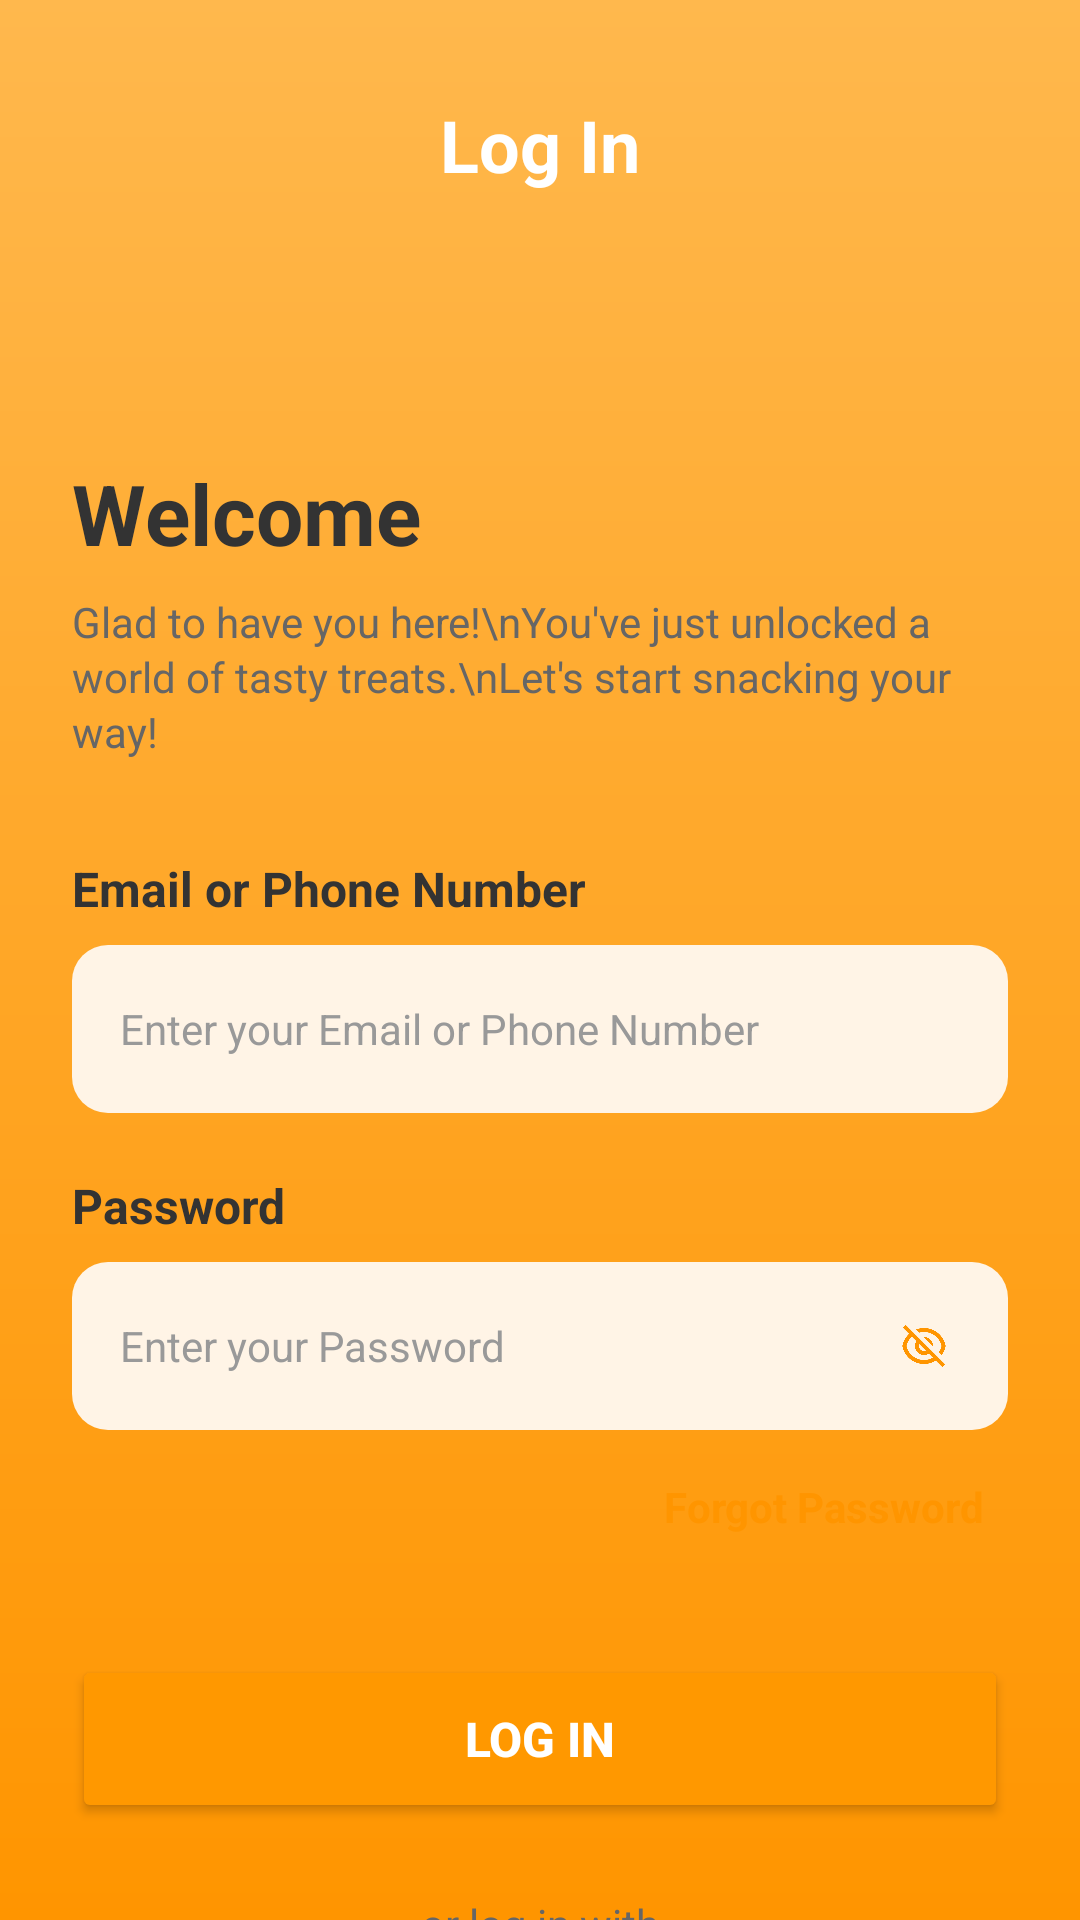

Icon click points for this 1080 x 1920 phone screenshot, format (x,y):
eye off: (924,1346)
